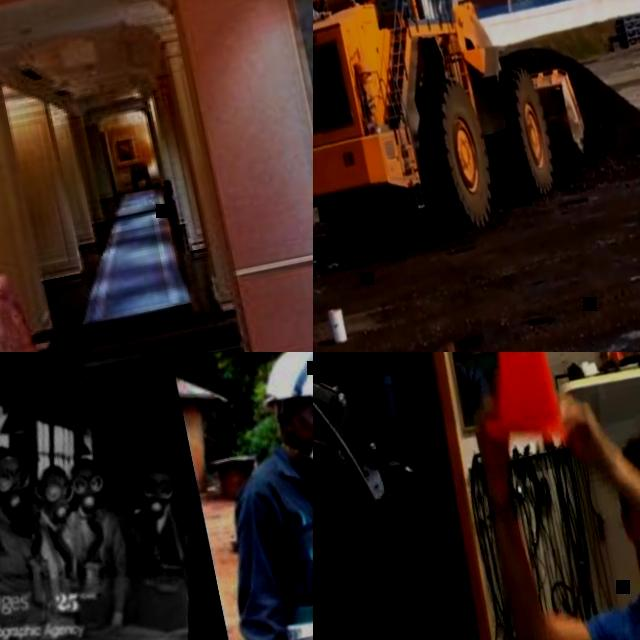machinery: (313, 0, 606, 270)
mask: (0, 482, 26, 517), (142, 490, 170, 518), (46, 497, 72, 522), (76, 488, 102, 513), (25, 494, 44, 526), (302, 420, 313, 473)
no_helmet: (616, 427, 640, 498), (67, 456, 99, 476), (36, 464, 66, 484), (146, 460, 173, 480), (0, 442, 20, 469)
no_vest: (230, 434, 313, 640), (119, 502, 208, 632), (26, 508, 87, 640), (58, 503, 128, 610), (0, 501, 50, 640)
person: (464, 353, 640, 640), (184, 352, 313, 640), (103, 459, 210, 640)
safety_cone: (440, 352, 587, 465)
